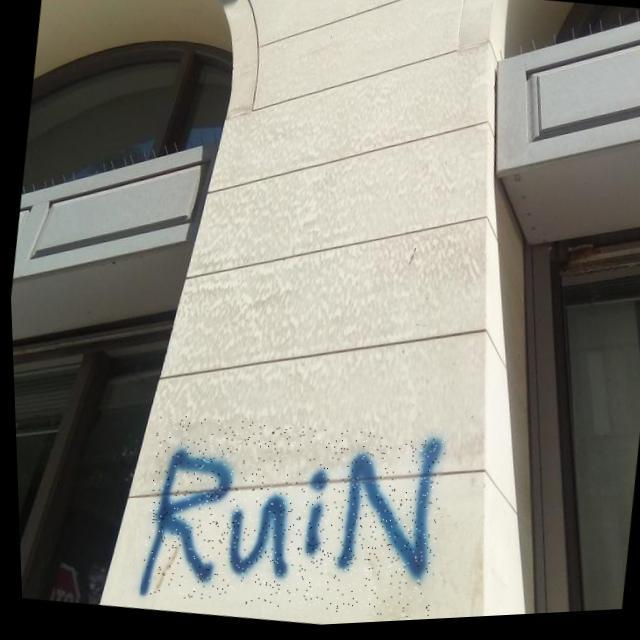-: (130, 404, 448, 636)
